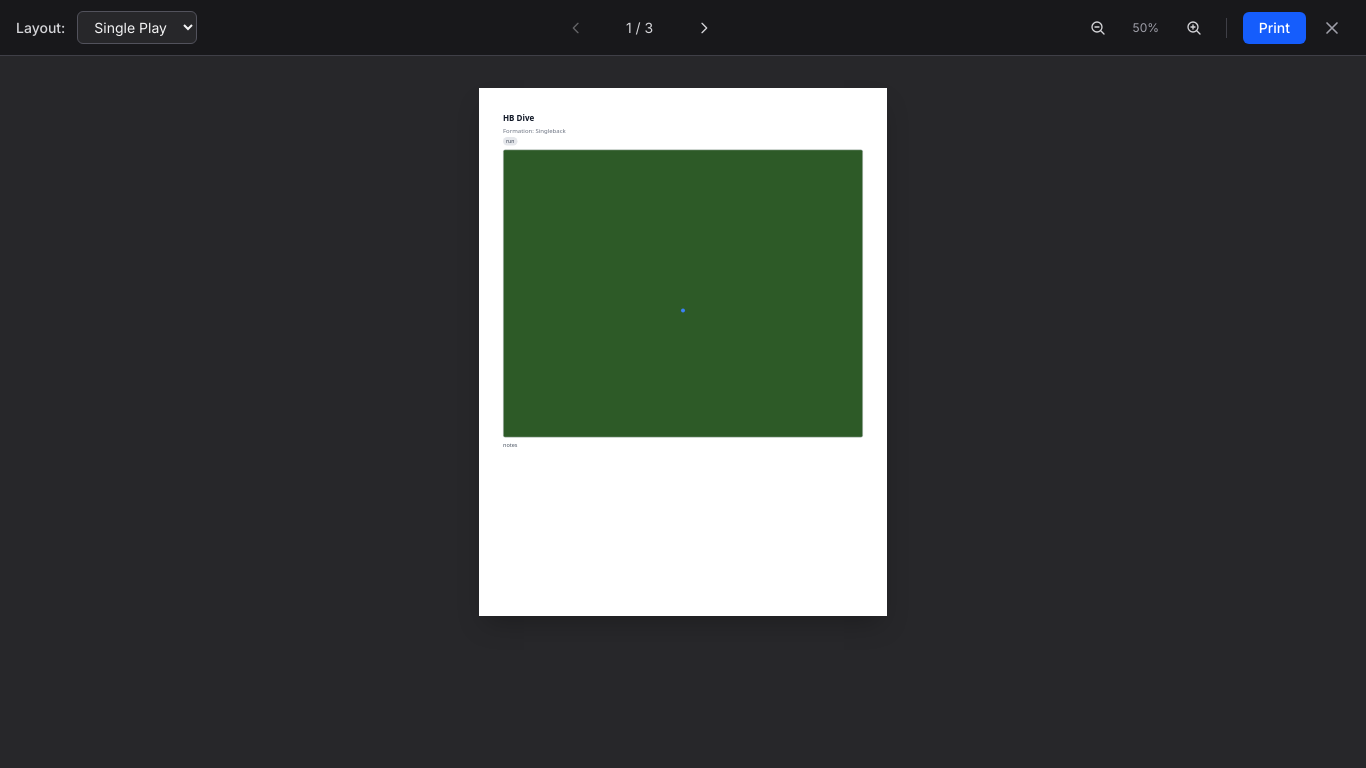
it: PrintPreview › Page navigation › navigates to previous page
The width and height of the screenshot is (1366, 768).
Click the button with test id "next-page-btn".
click(704, 28)  # box [688,16,720,40]
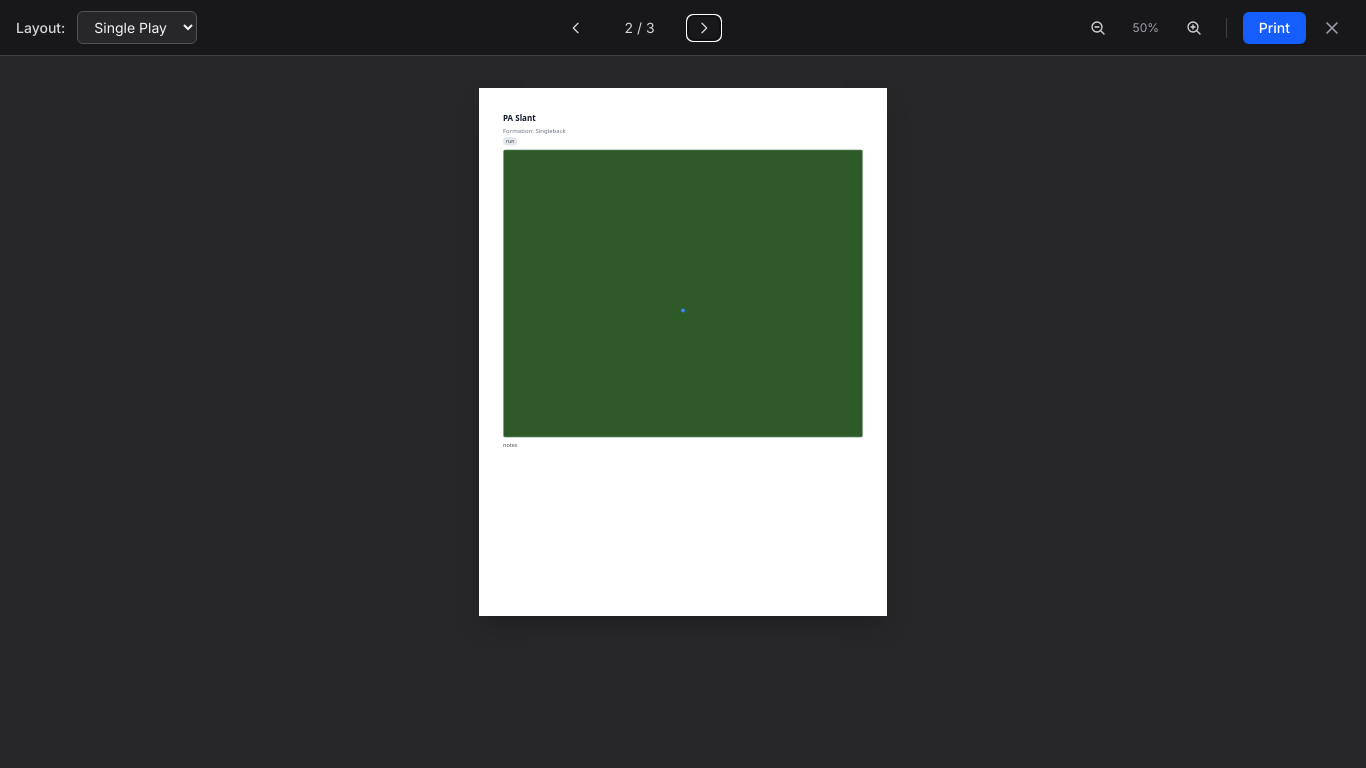
Click the button with test id "next-page-btn".
click(704, 28)  # box [688,16,720,40]
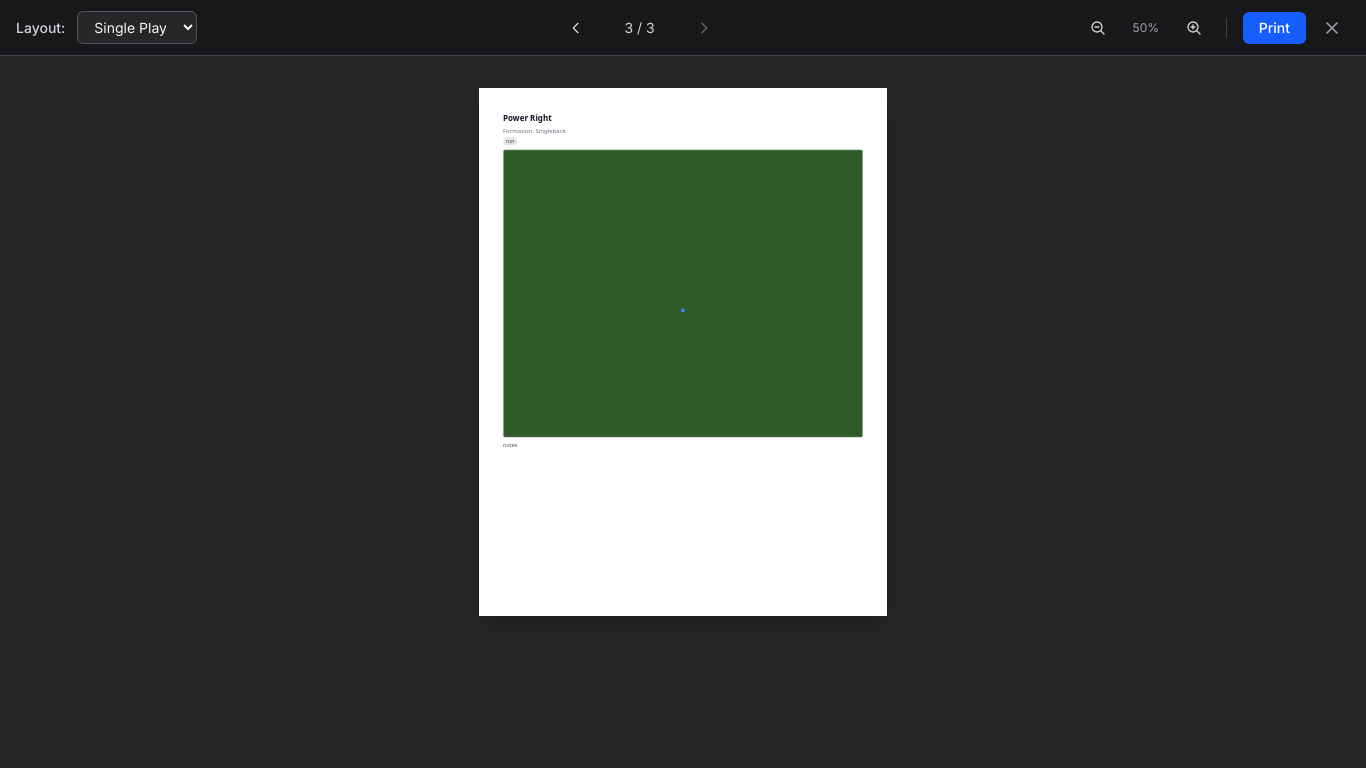
expect the text with test id "page-count" reads "3 / 3": met, box [624,18,655,36]
Click the button with test id "prev-page-btn".
click(576, 28)  # box [560,16,592,40]
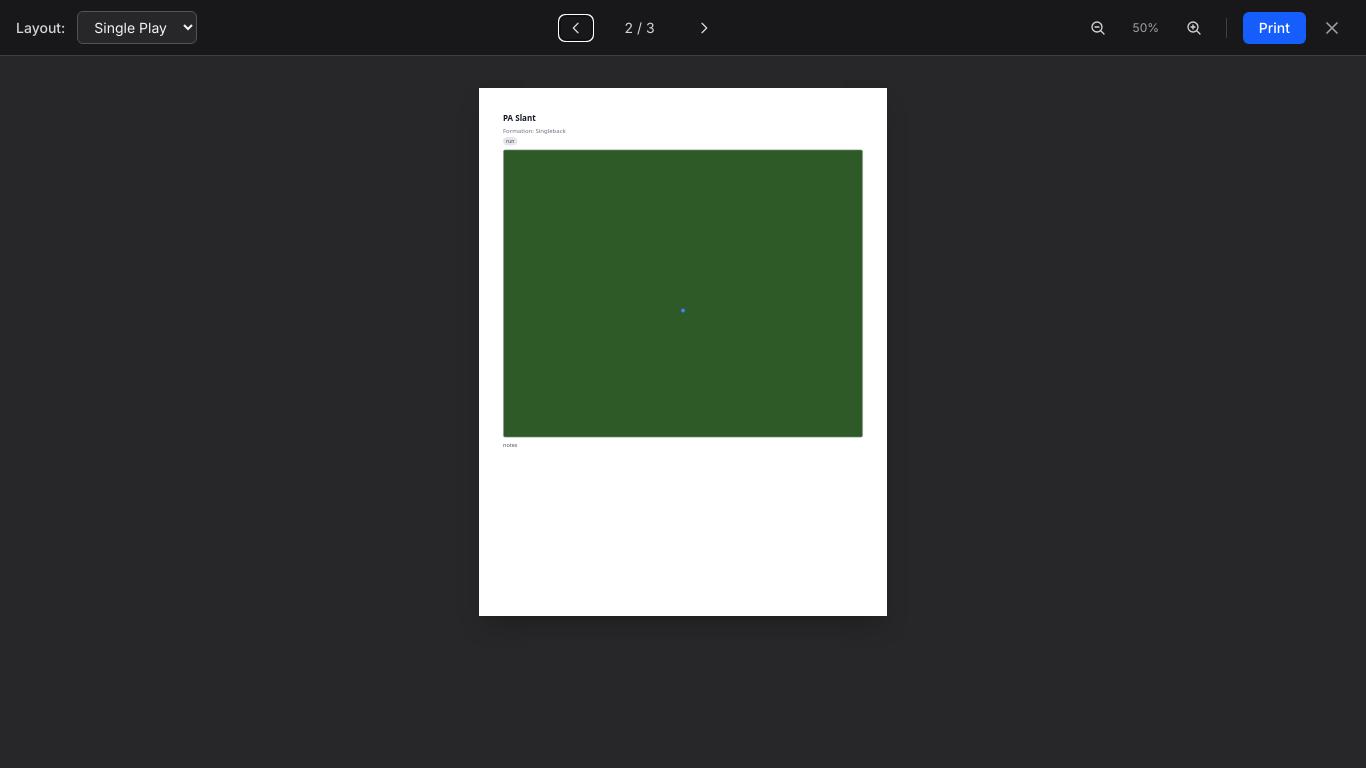
expect the text with test id "page-count" reads "2 / 3": met, box [624,18,655,36]
